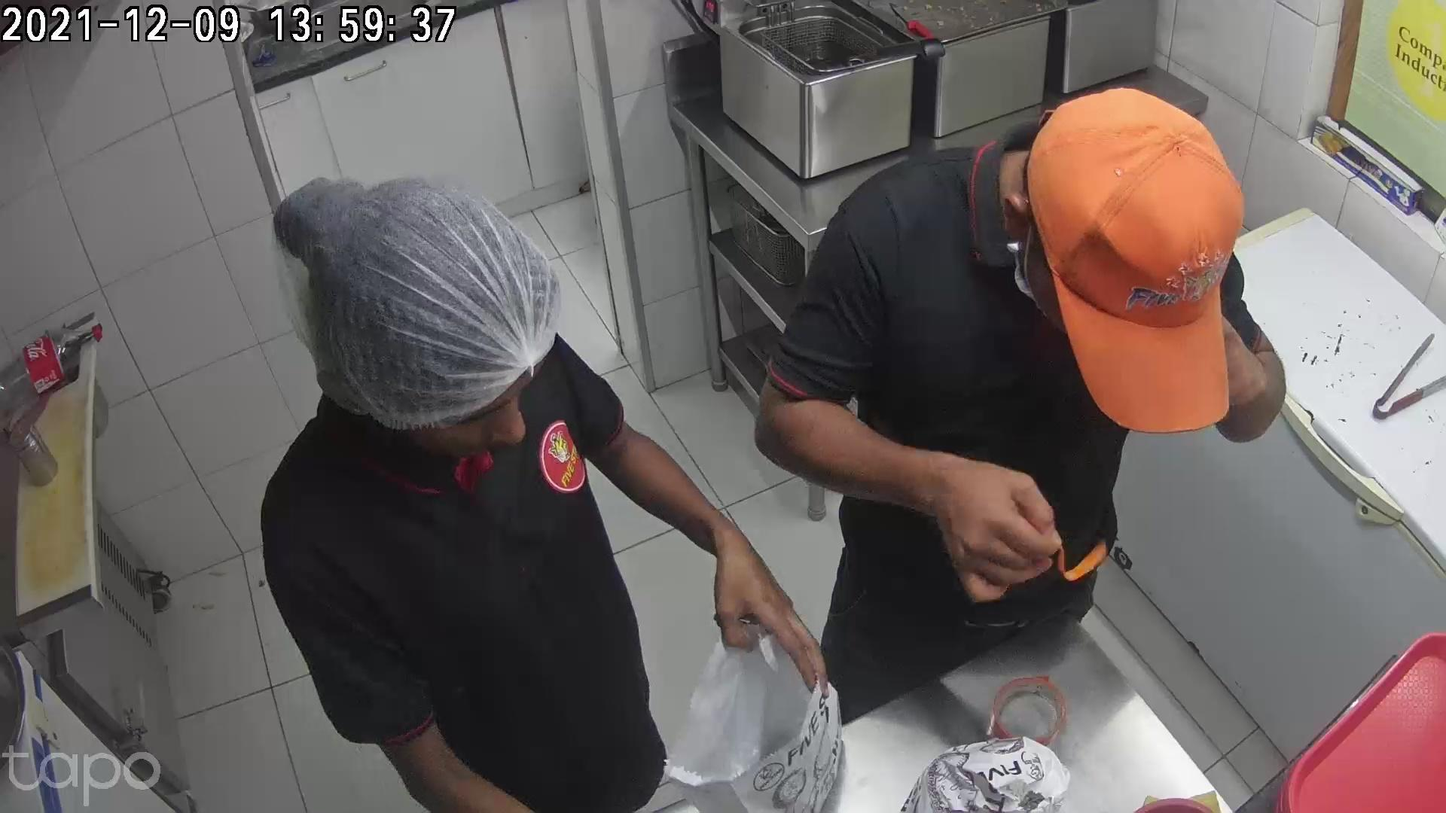no_gloves: (896, 452, 1056, 603)
